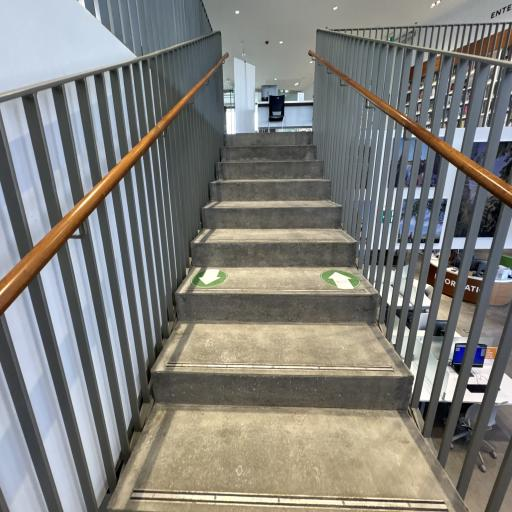Stairs: (108, 132, 466, 512), (191, 228, 356, 268)
